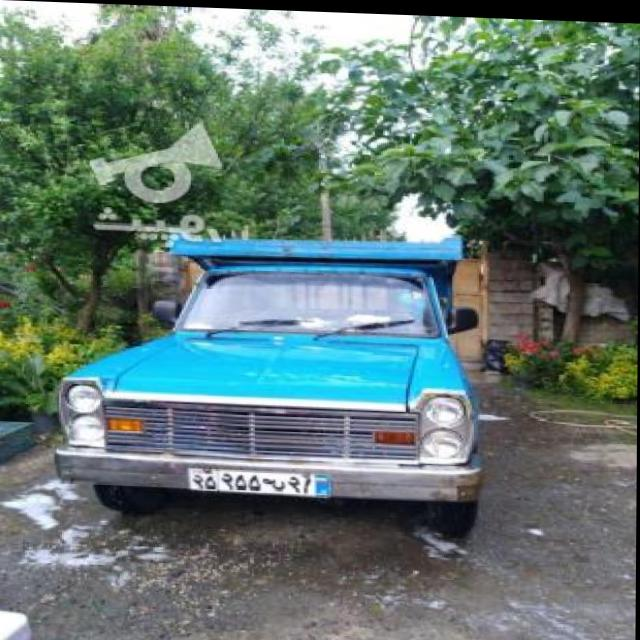licence: (189, 463, 336, 493)
